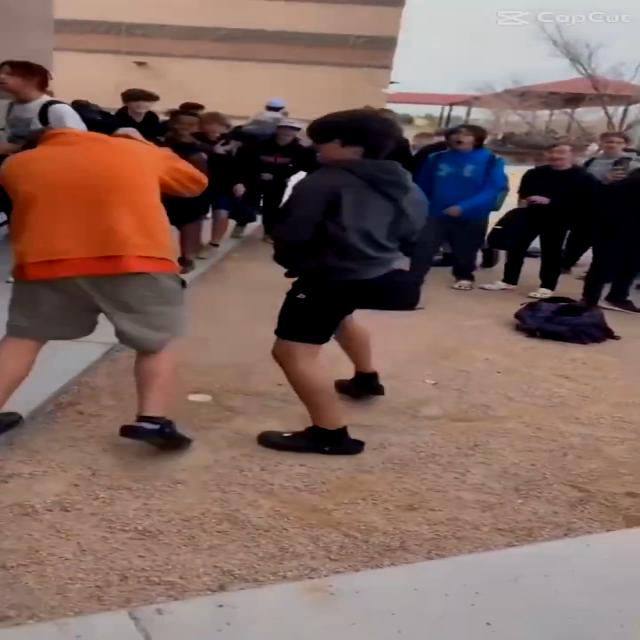fight: (1, 107, 428, 463)
